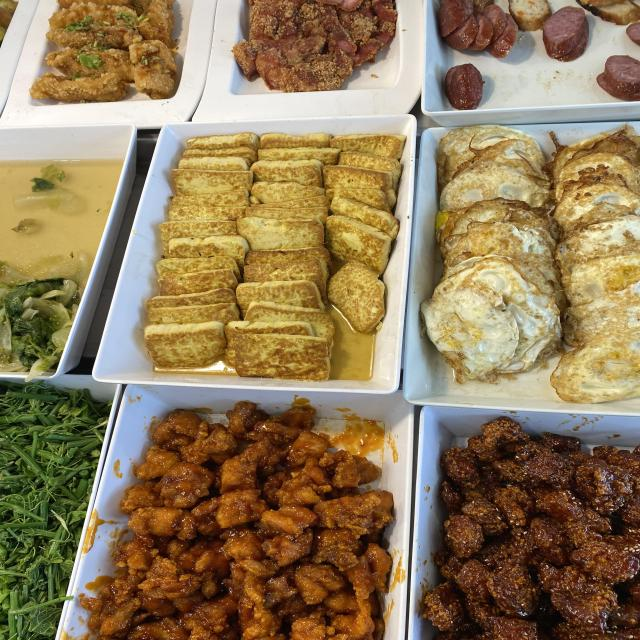Pan Fried Tofu: (181, 157, 375, 353)
